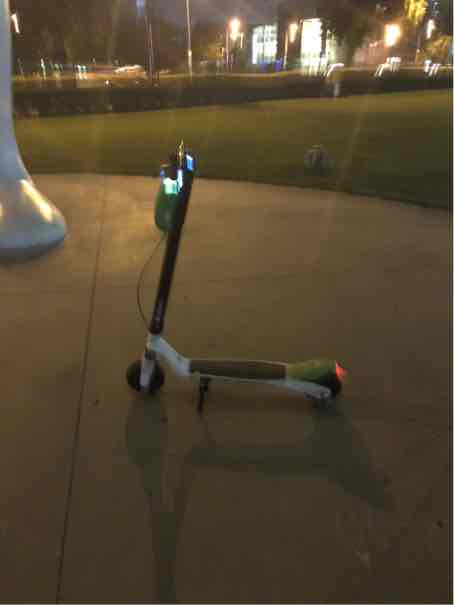scooter: (116, 132, 368, 415)
